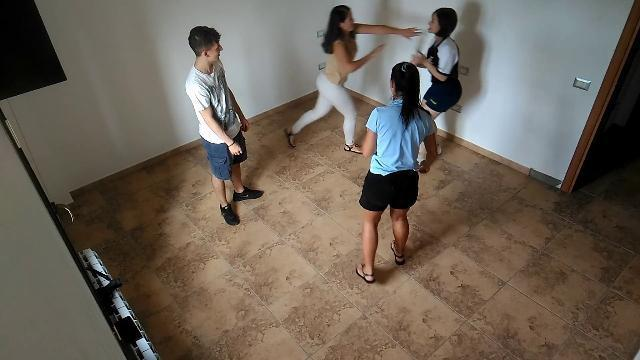non-violence: (352, 61, 440, 286), (182, 25, 266, 229)
violence: (282, 3, 462, 156)
